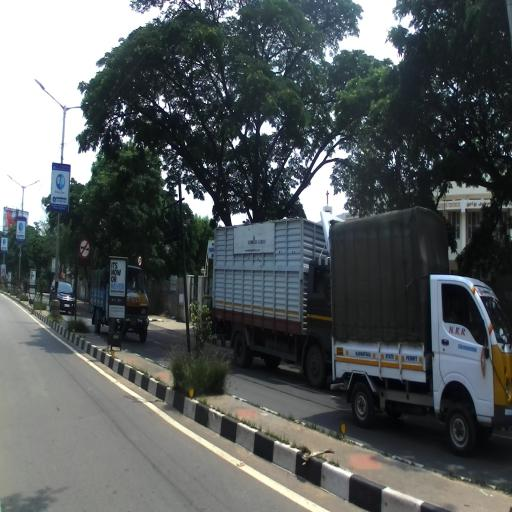street_light_0: (34, 78, 68, 113), (62, 102, 110, 116), (6, 174, 25, 192), (21, 180, 40, 193)
